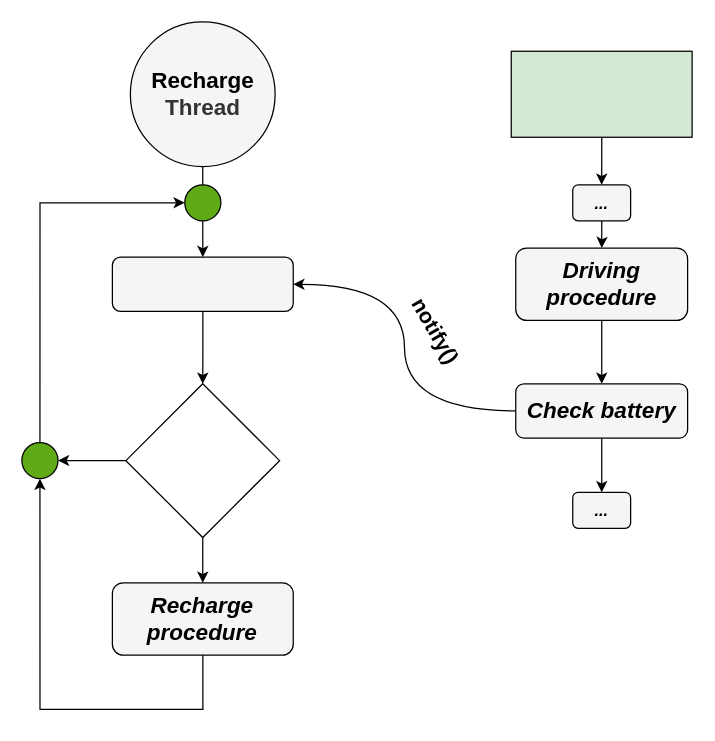
The diagram is 715 pixels wide and 741 high, and some of its shapes have lost their labels. The shapes that lost their labels are listed below. From the top down, each one's box as (x1, y1, x2, y2) in pixels, then its label:
(510, 50, 692, 137): MQTT Module
(111, 256, 293, 311): wait()
(125, 382, 280, 538): Are battery levels below 30%?
